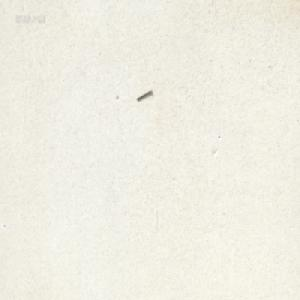Bolt: (135, 87, 152, 100)
